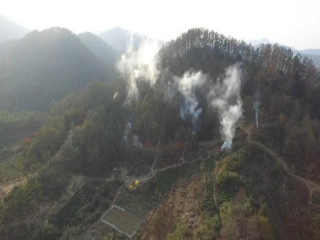smoke: (114, 34, 260, 151)
